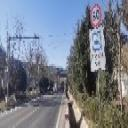speed_limit_60: (90, 3, 102, 27)
